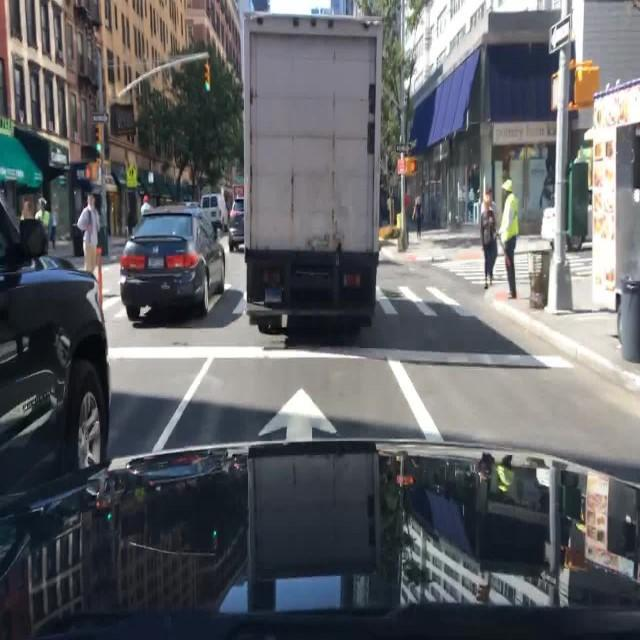normal: (232, 6, 402, 351), (115, 196, 233, 335)
